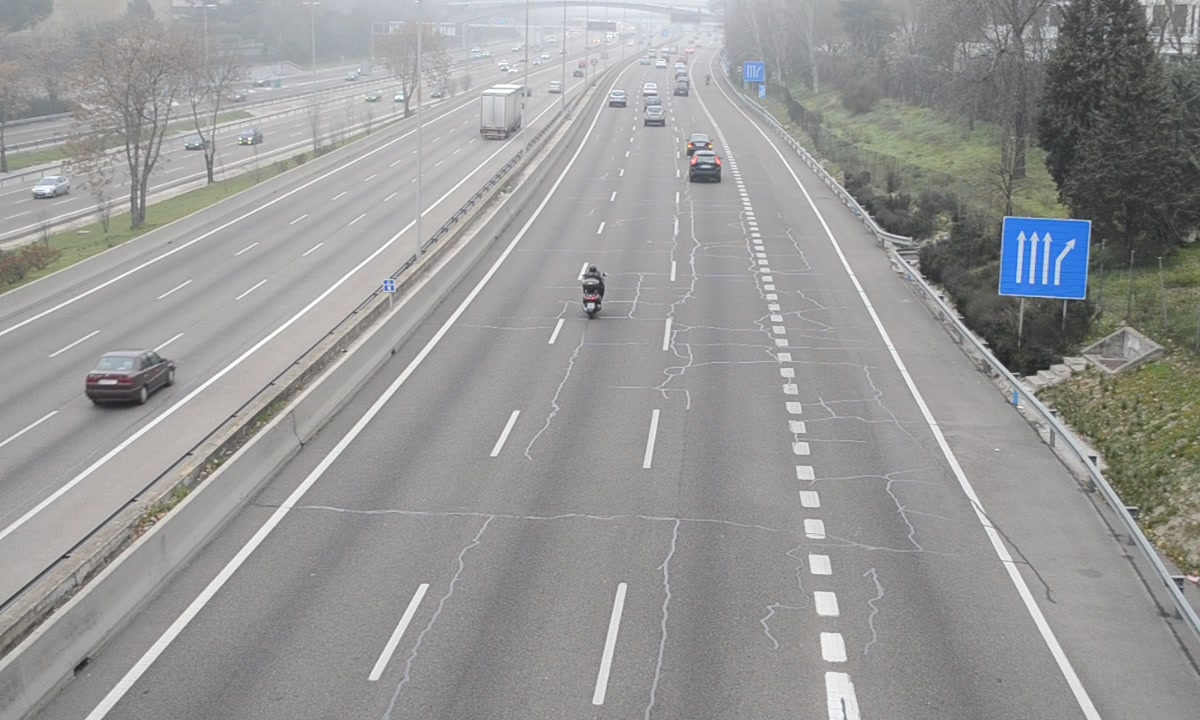car: (689, 150, 722, 182)
motorcycle: (581, 263, 606, 320)
